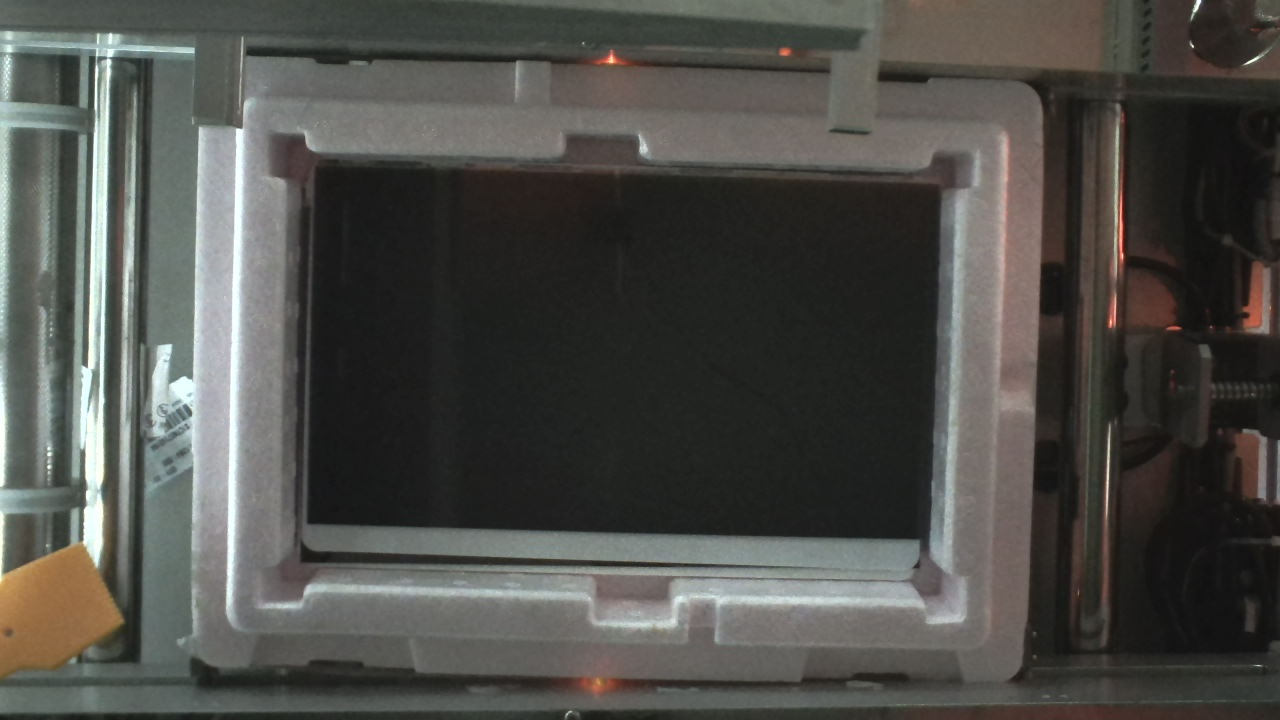OK: (184, 54, 1049, 689)
